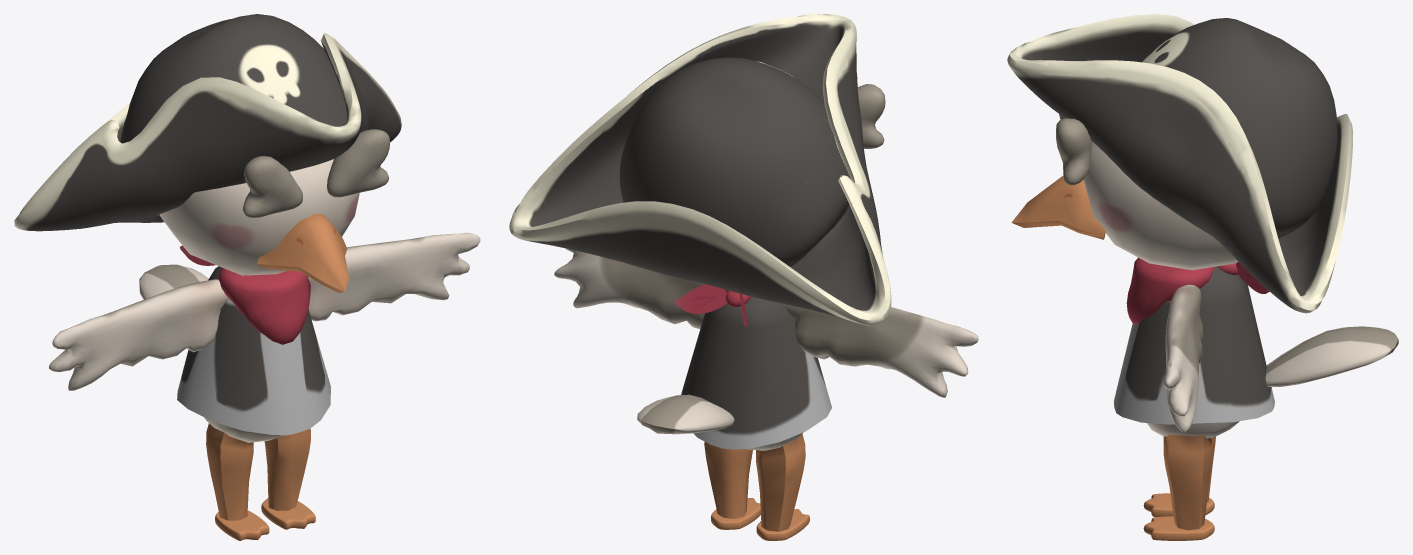
Rendered from GaviotoSinArmadura.fbx.
3 views of the same model, side by side, from view 1: azimuth 30°, elevation 25°; view 2: azimuth 150°, elevation 25°; view 3: azimuth 270°, elevation 25° (orthographic). The views are drawn at different scales.
Parts seen in each view (by area): view 1: CUERPO.001; view 2: CUERPO.001; view 3: CUERPO.001.
Part boxes in pixels (left/top/right/bottom): CUERPO.001: left=14, top=14, right=480, bottom=540; CUERPO.001: left=509, top=14, right=978, bottom=540; CUERPO.001: left=1007, top=14, right=1398, bottom=540.
Size of the model in its own units: 178 by 193 by 138.
6 materials, 6 textured.
